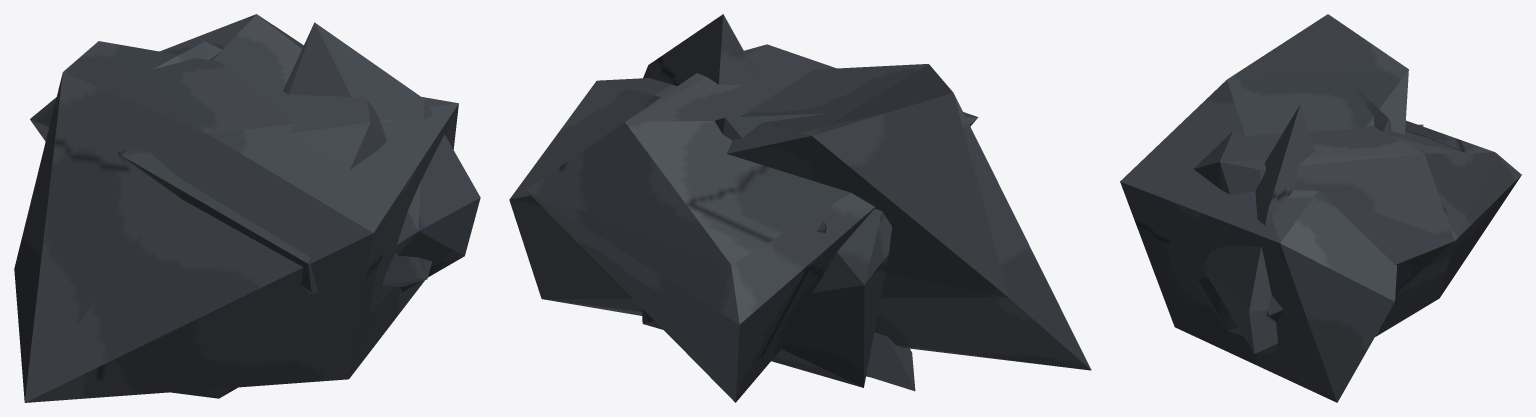
The model's file is rock_bits_v1.fbx.
3 renders of one model, left to right at view 1: azimuth 30°, elevation 25°; view 2: azimuth 150°, elevation 25°; view 3: azimuth 270°, elevation 25°, orthographic. The views are drawn at different scales.
Parts seen in each view (by area): view 1: rock_bit3_v1, rock_bit5_v1, rock_bit1_v1, rock_bit2_v1; view 2: rock_bit3_v1, rock_bit5_v1, rock_bit2_v1, rock_bit1_v1; view 3: rock_bit3_v1, rock_bit5_v1, rock_bit1_v1, rock_bit2_v1.
Part boxes in pixels (box(x1,y1,x2,y2)): rock_bit3_v1: box(14, 41, 458, 402); rock_bit5_v1: box(30, 14, 432, 293); rock_bit1_v1: box(170, 22, 480, 398); rock_bit2_v1: box(152, 41, 222, 69); rock_bit3_v1: box(509, 64, 1091, 370); rock_bit5_v1: box(526, 44, 978, 402); rock_bit2_v1: box(642, 113, 891, 387); rock_bit1_v1: box(643, 14, 915, 391); rock_bit3_v1: box(1120, 14, 1408, 402); rock_bit5_v1: box(1194, 120, 1521, 336); rock_bit1_v1: box(1202, 104, 1314, 353); rock_bit2_v1: box(1353, 84, 1390, 335).
Size of the model in its own units: 68.92 by 46.59 by 62.17.
